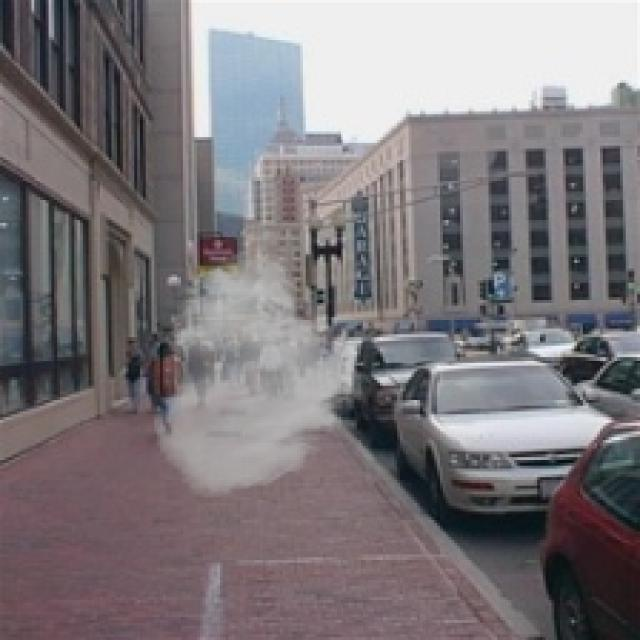smoke: (152, 249, 372, 500)
